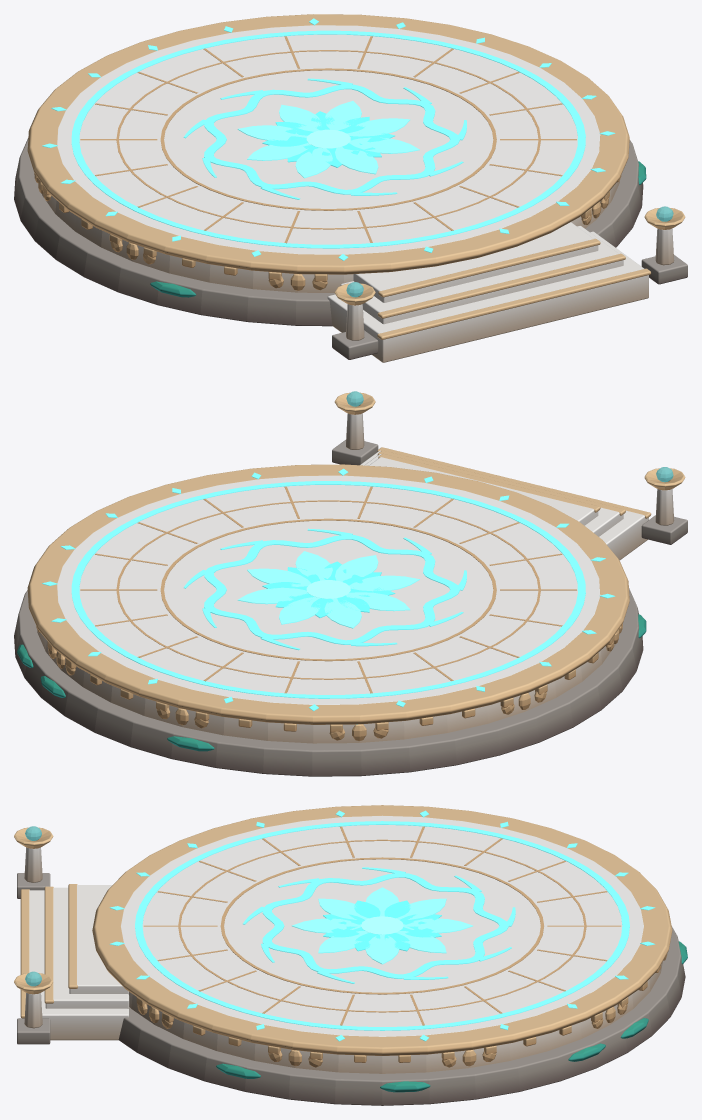
File: grove_dais_water.glb
The picture shows the model from 3 angles, top to bottom: view 1: azimuth 30°, elevation 25°; view 2: azimuth 150°, elevation 25°; view 3: azimuth 270°, elevation 25°; orthographic projection. The views are drawn at different scales.
Parts seen in each view (by area): view 1: grove_dais_water; view 2: grove_dais_water; view 3: grove_dais_water.
Part boxes in pixels (<box>): grove_dais_water: <box>14,14,687,362</box>; grove_dais_water: <box>14,391,687,776</box>; grove_dais_water: <box>14,805,687,1105</box>.
Size of the model in its own units: 12.74 by 1.81 by 14.1.
Materials: 3 (3 with a texture image).
